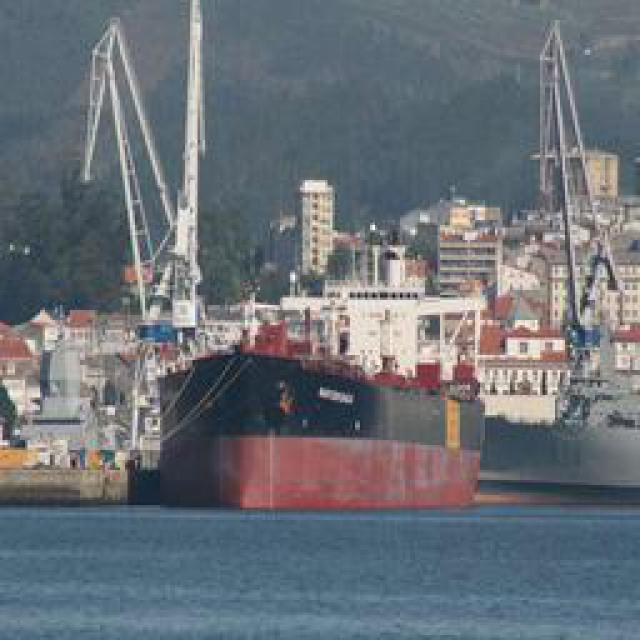Ship: (149, 338, 482, 516)
